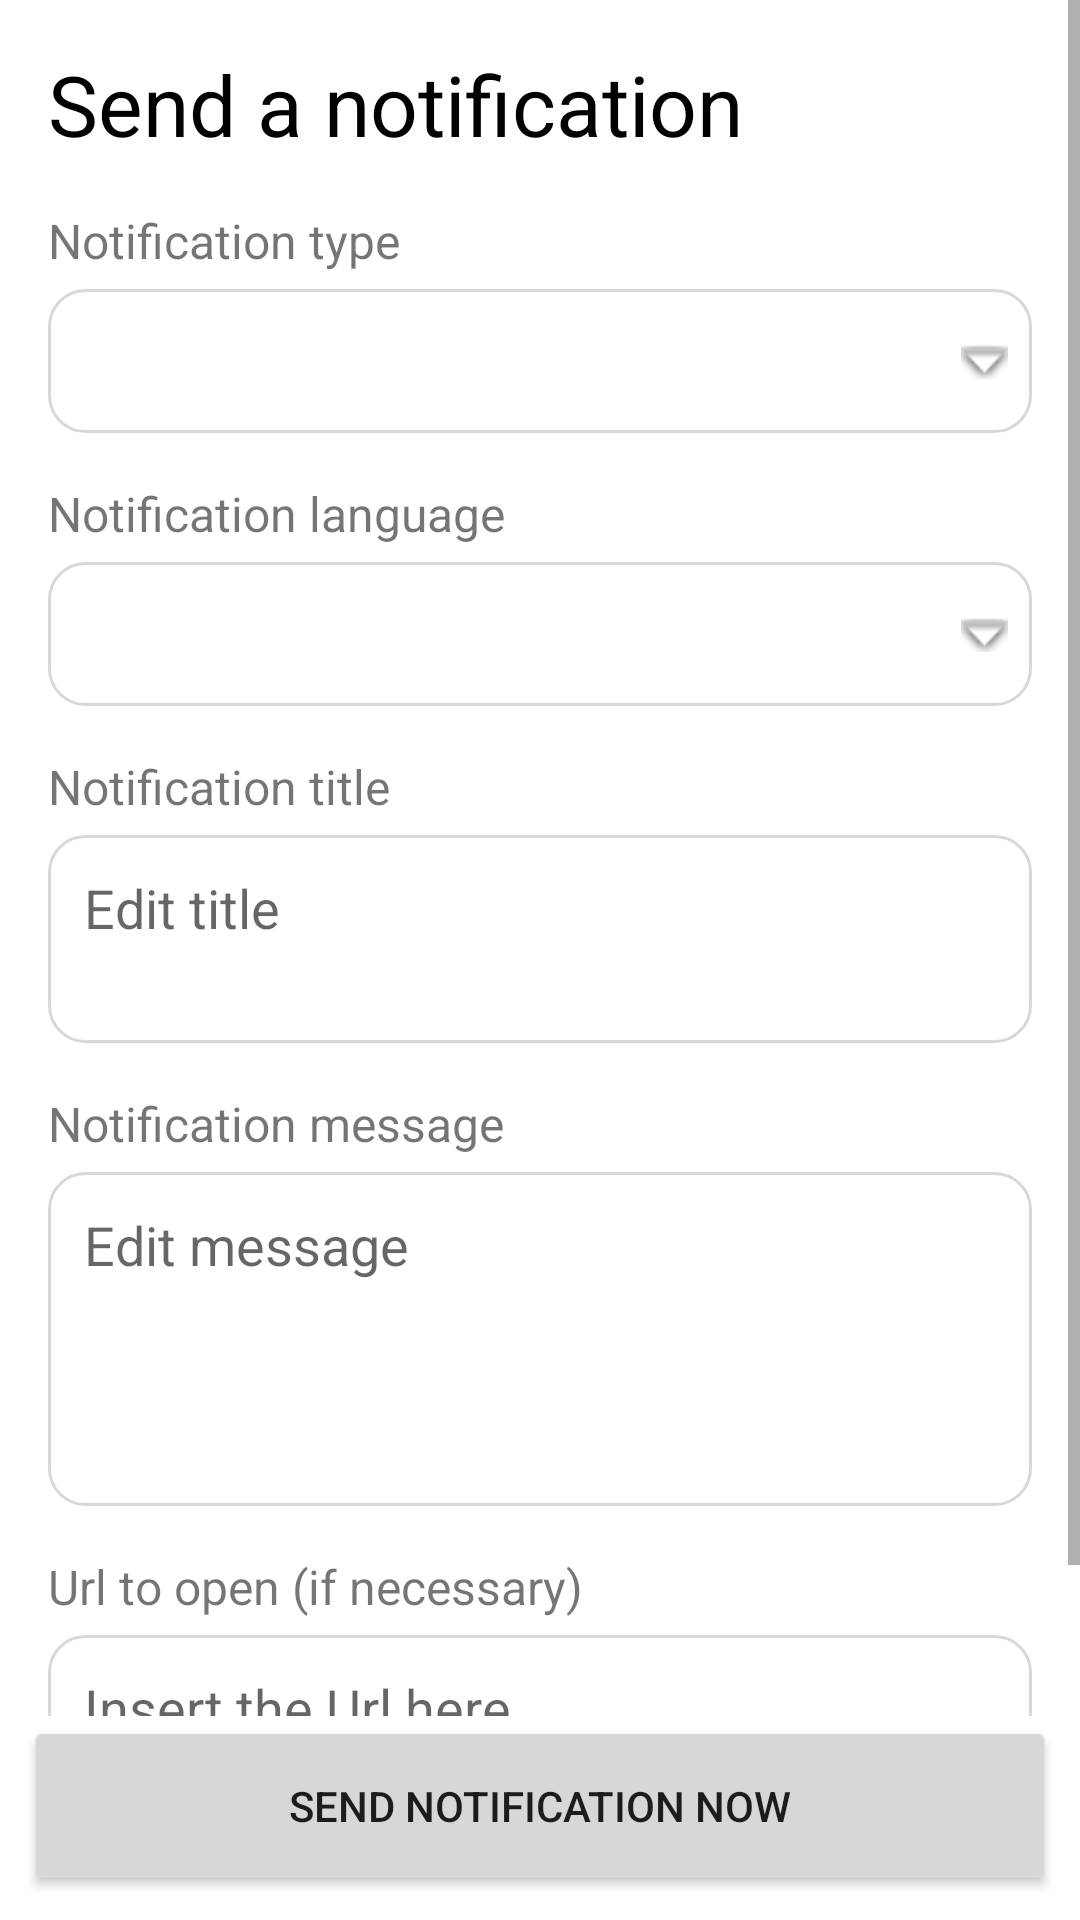

Named icons in this screenshot (1080w x 1920h) and their bounding boxes, (x1, y1, x2, y2):
arrow down float: (961, 346, 1008, 378), (961, 619, 1008, 651)
